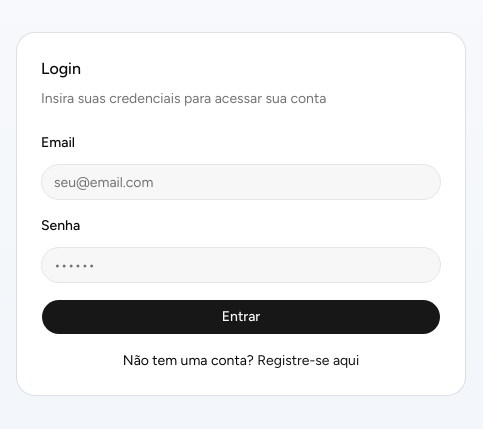
Test: LoginPage › shows validation error for invalid email
Type "not-an-email" into the field with id "form-rhf-input-email".
click(241, 182); type("not-an-email")  # box x1=41 y1=164 x2=441 y2=200
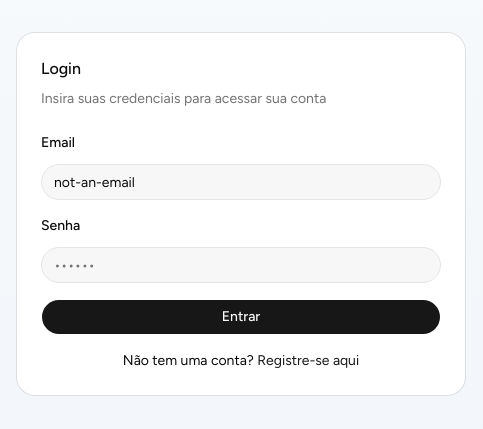
Type "password123" into the password field with id "form-rhf-input-password".
click(241, 265); type("password123")  # box x1=41 y1=247 x2=441 y2=283
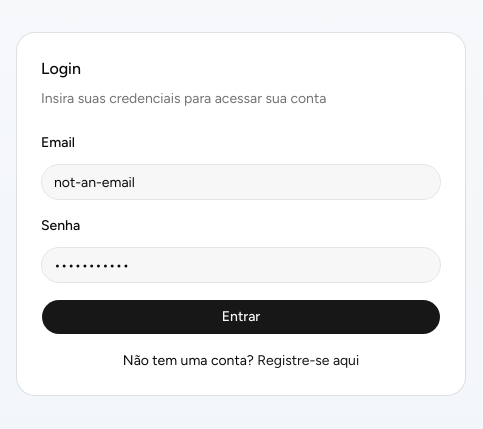
Click the button "Entrar".
click(241, 317)  # box x1=41 y1=299 x2=441 y2=335
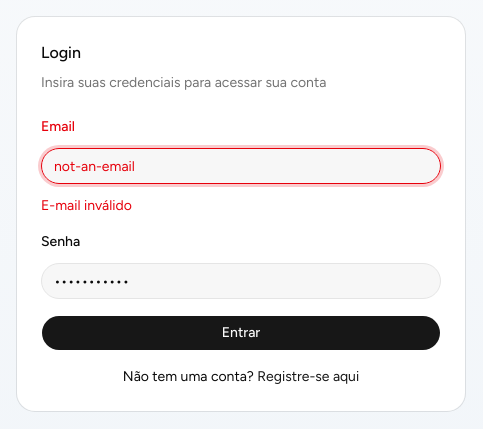
Now the text "E-mail inválido" is shown, box x1=41 y1=197 x2=132 y2=214
